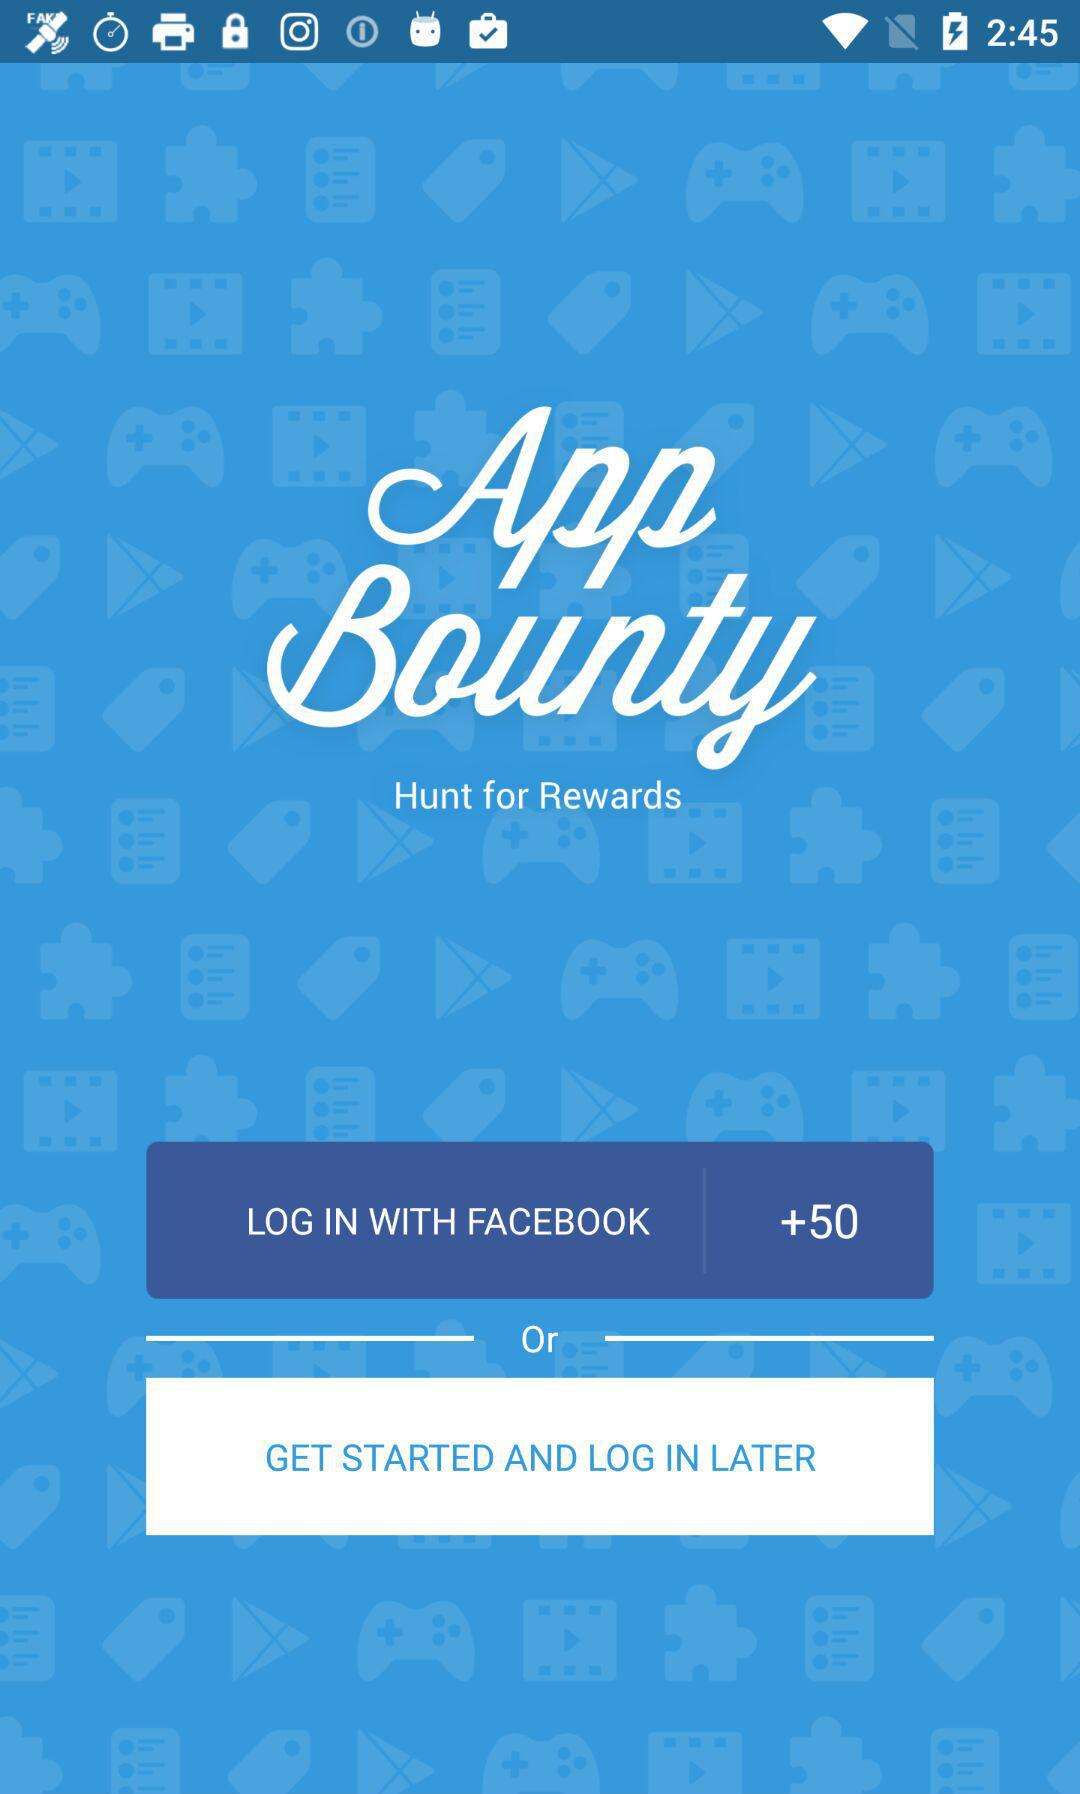BackgroundImage: (1, 64, 1080, 1794)
Image: (265, 405, 817, 771)
Text: (395, 778, 683, 812), (521, 1325, 560, 1354)
TextButton: (146, 1378, 935, 1536), (146, 1142, 935, 1299)
UpperTaskBar: (1, 1, 1080, 64)
